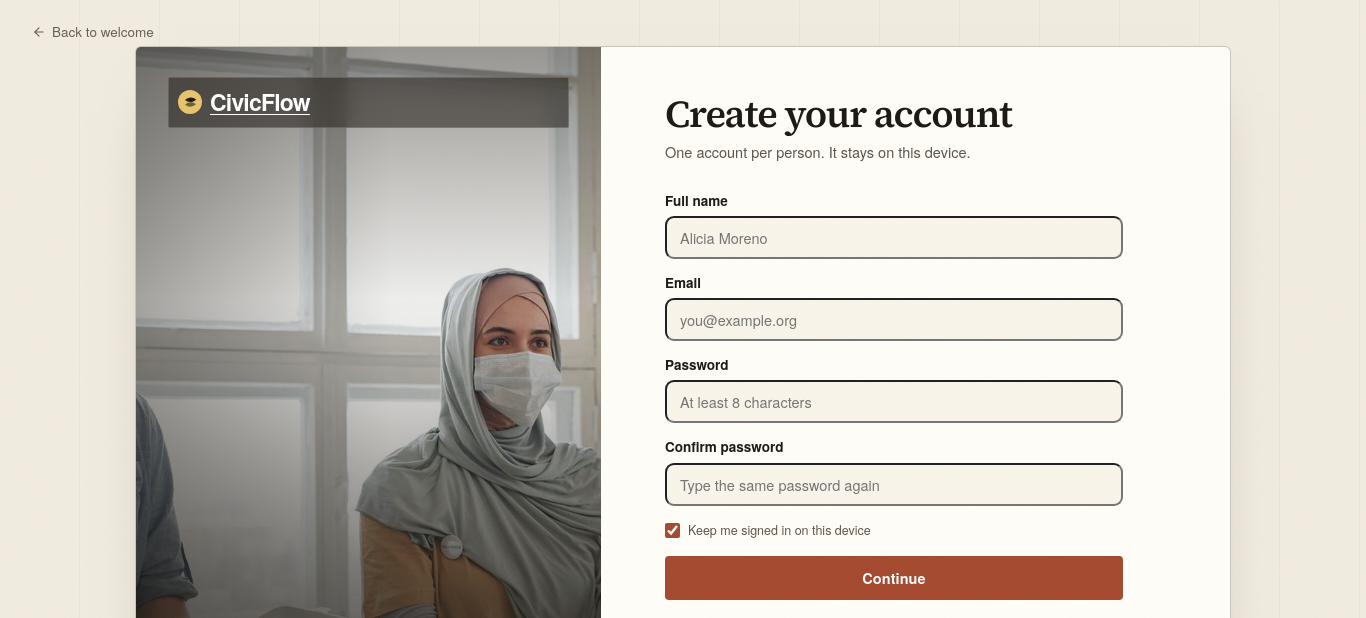
Test case: Create account › explains what is missing before it creates anything
This screenshot has width=1366, height=618.
Click the button "Continue".
click(894, 578)  # box [665, 556, 1123, 600]
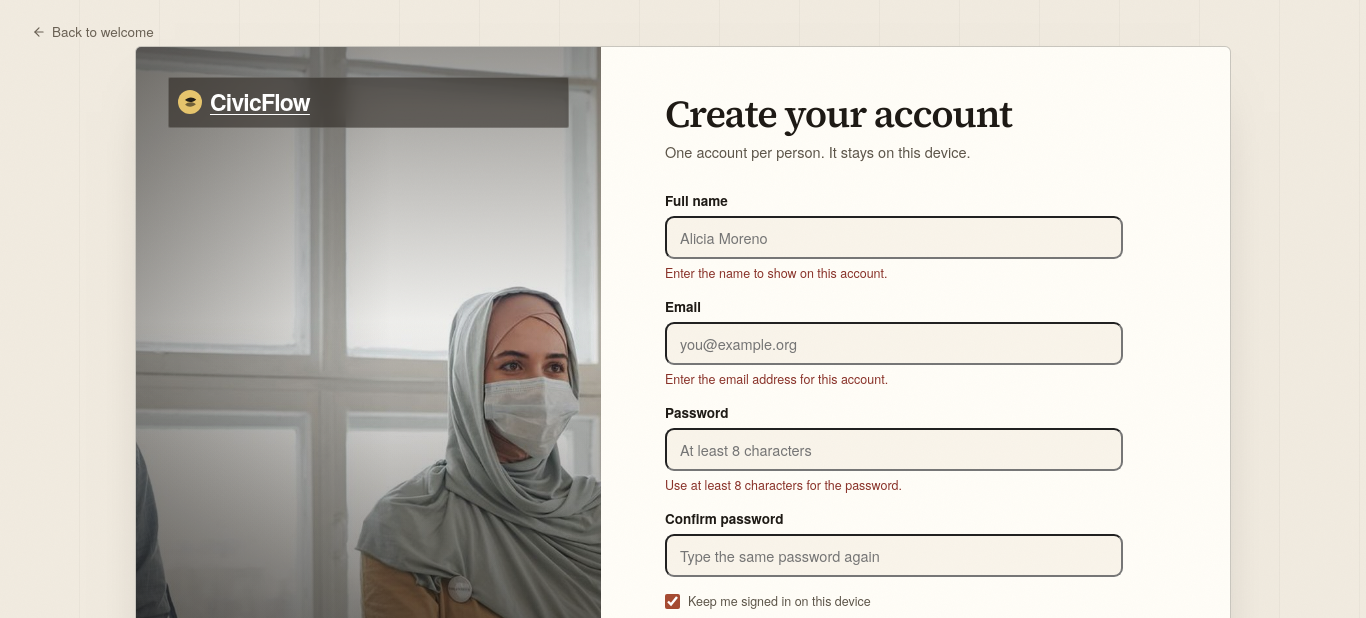
Expected: the text "Enter the name to show on this account." is shown, [665, 264, 888, 282]
Expected: the text "Enter the email address for this account." is shown, [665, 370, 888, 388]
Expected: the text "Use at least 8 characters for the password." is shown, [665, 476, 902, 494]
